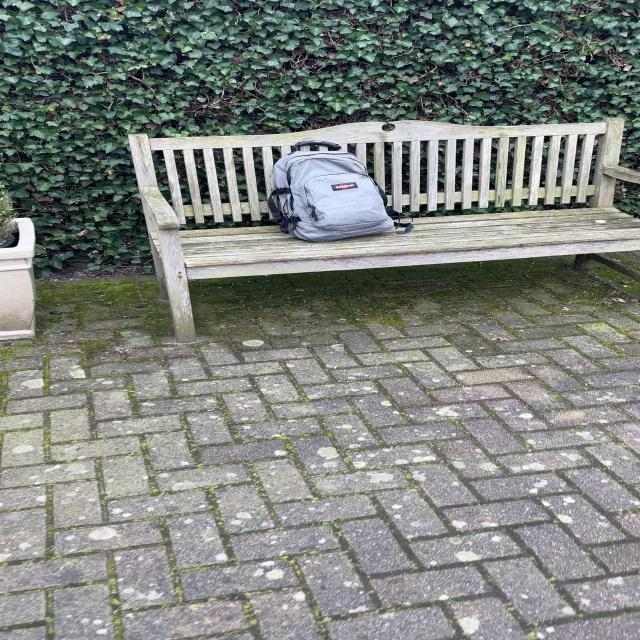backpack: (261, 138, 400, 244)
